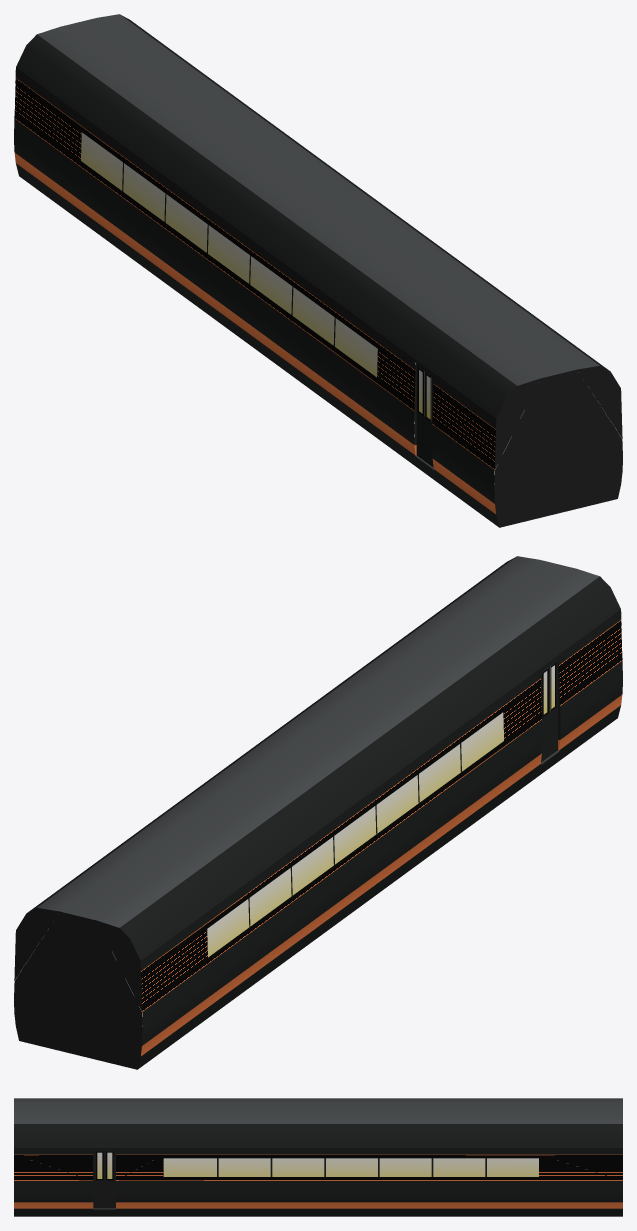
3 views of the same model, one above another, from view 1: azimuth 30°, elevation 25°; view 2: azimuth 150°, elevation 25°; view 3: azimuth 270°, elevation 25° (orthographic). The views are drawn at different scales.
Parts seen in each view (by area): view 1: obj2; view 2: obj2; view 3: obj2.
Boxes of the visible parts, <box> form: obj2: <box>14,14,622,527</box>; obj2: <box>14,556,622,1069</box>; obj2: <box>14,1098,622,1216</box>.
Bounding box in the file's own units: 6.49 × 6.72 × 42.
Materials: 10 (10 with a texture image).
